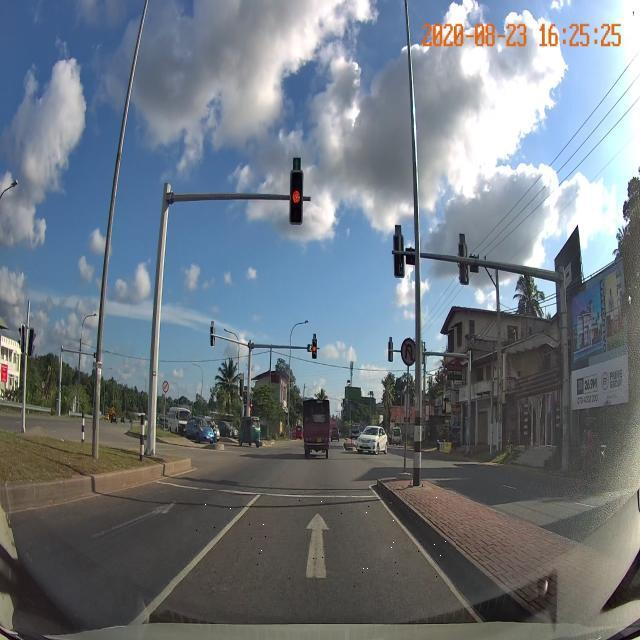forward: (171, 491, 456, 589)
